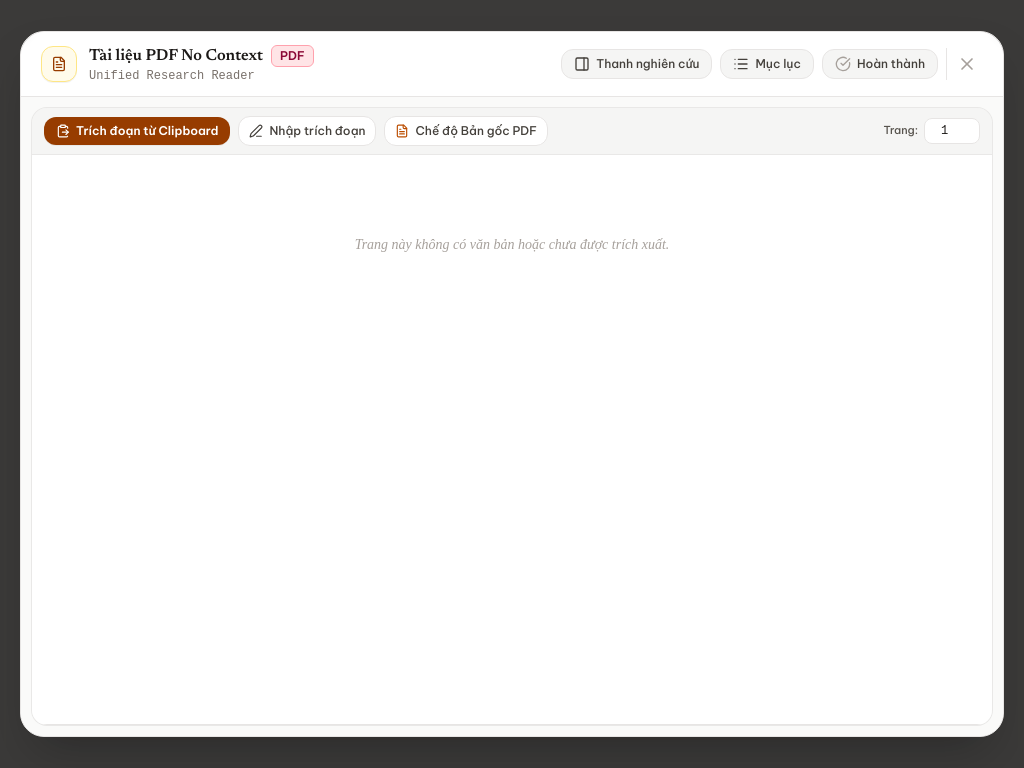
Phase R3: Reader Selection Toolbar Actions Persistence & Feedback (Red Stage) › 6. Highlight action fallback when addExcerptToInbox is unavailable displays error toast
Click the button with test id "pdf-manual-quote-btn" at (308, 131), box [238, 116, 376, 146]
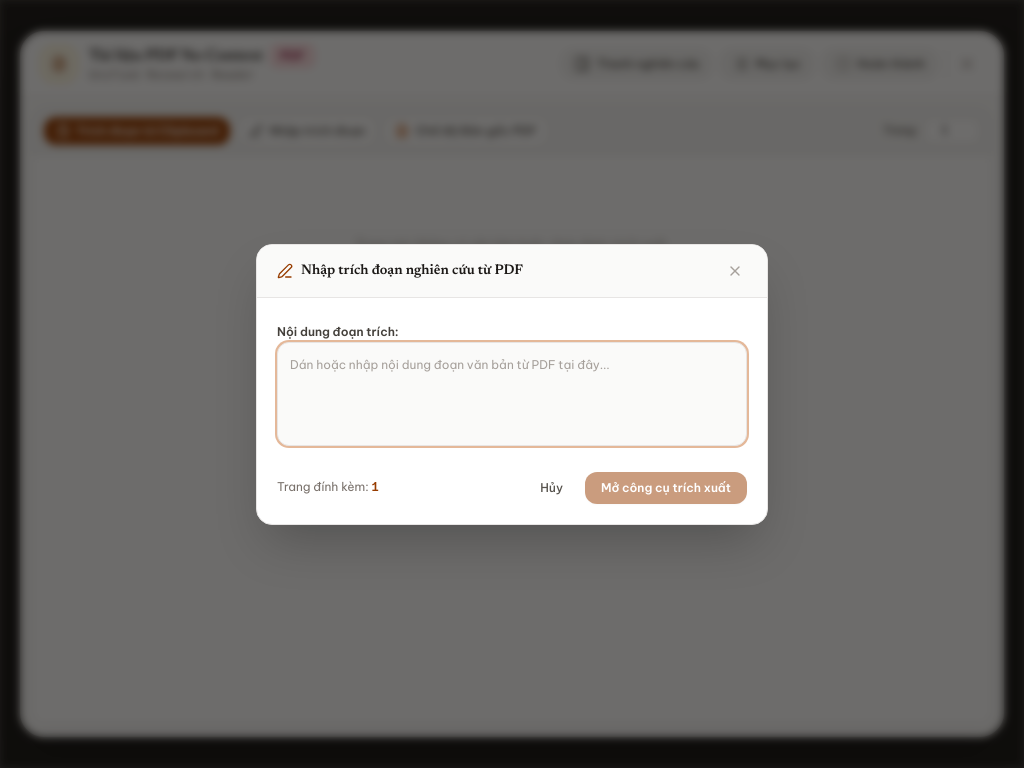
Type "Đoạn trích khi không có context" into the text box with test id "pdf-manual-quote-textarea" at (512, 394), box [277, 342, 747, 446]
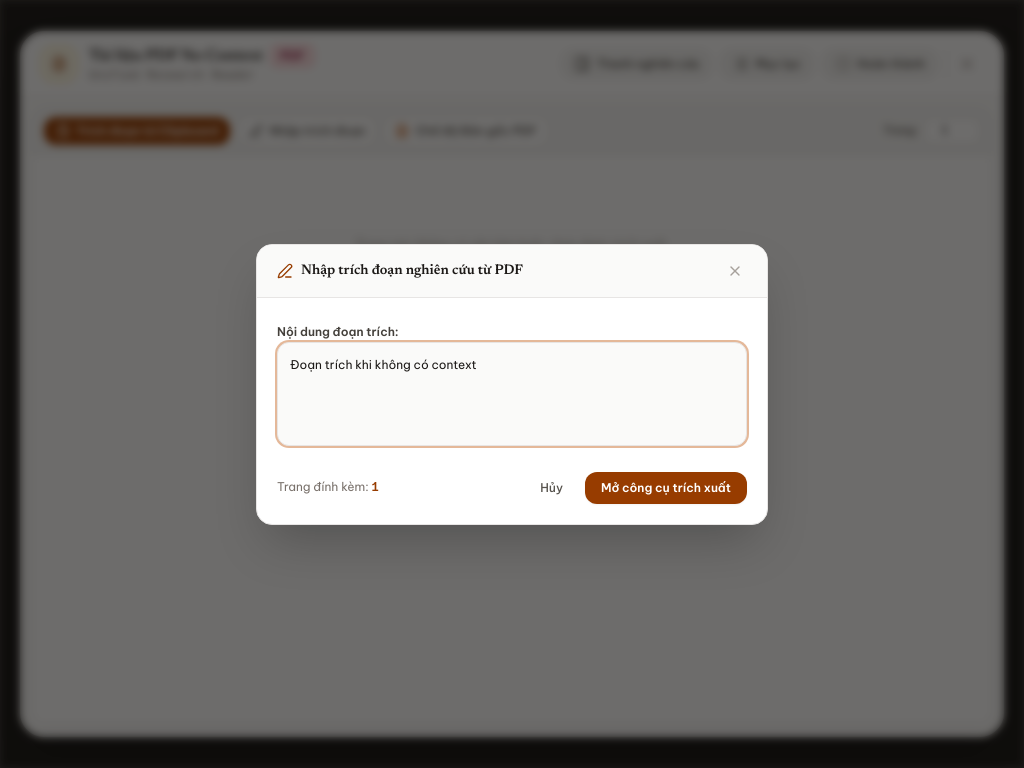
Click the button with test id "pdf-manual-quote-submit-btn" at (666, 488), box [585, 472, 747, 504]
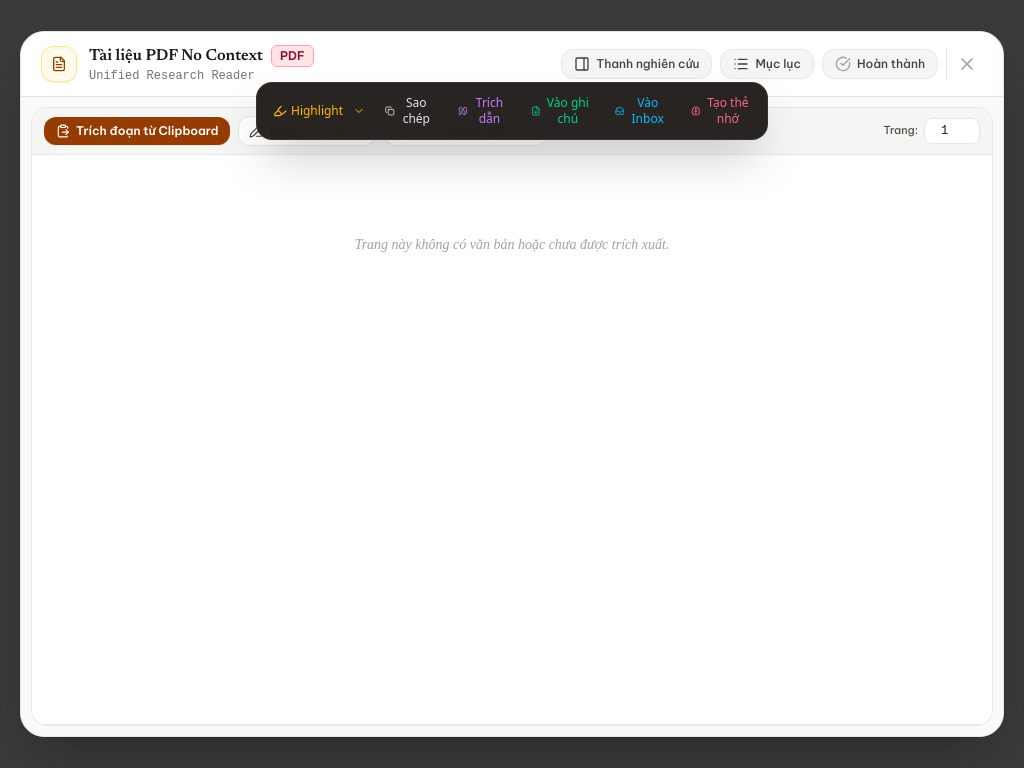
Click the button "Highlight" at (308, 111), box [263, 97, 353, 125]
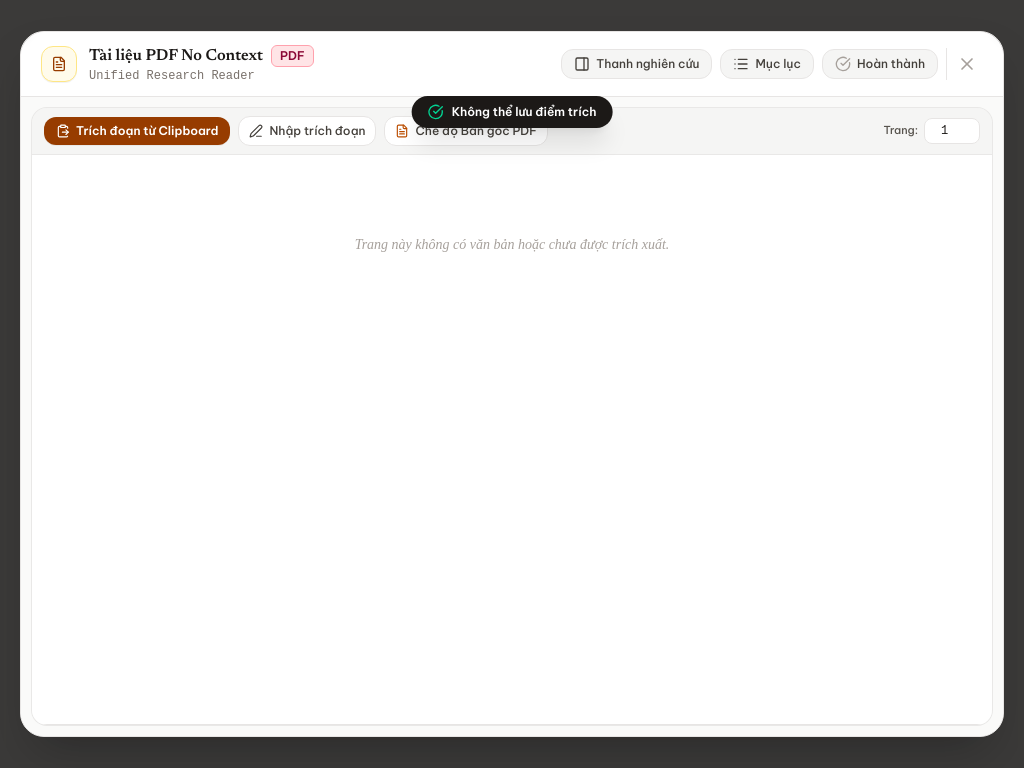
Result: the text "Không thể lưu điểm trích" is shown at [452, 104, 596, 120]
